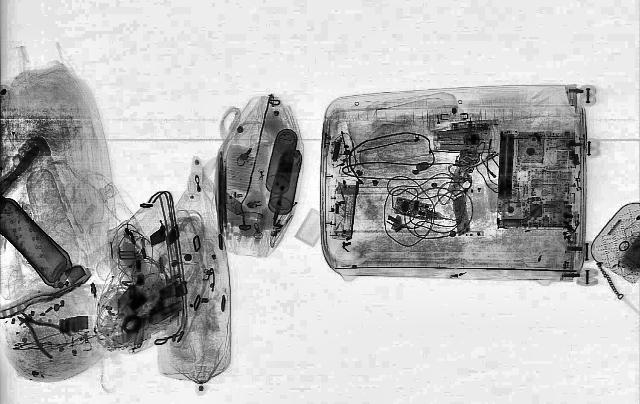Pliers: (0, 305, 86, 361)
